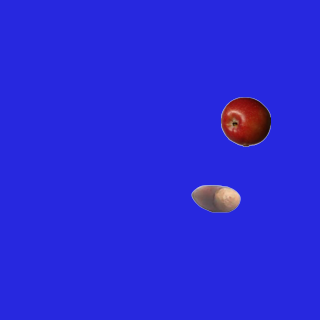Apple Braeburn: (220, 96, 270, 146)
Hazelnut: (190, 173, 240, 223)
